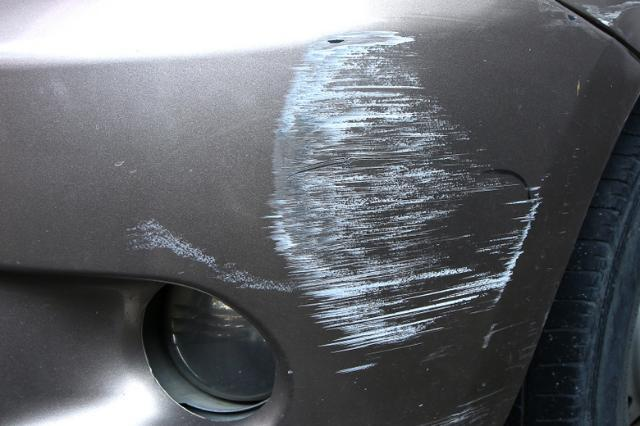Bumper: (85, 0, 546, 424)
